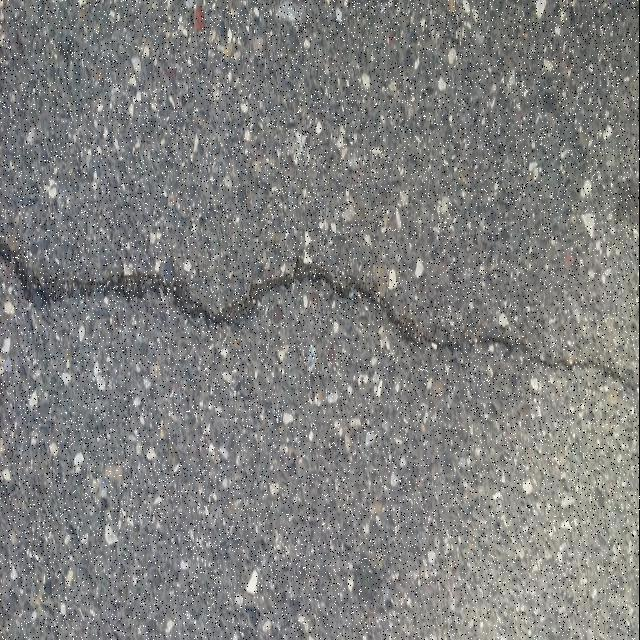Crack: (0, 237, 640, 395)
